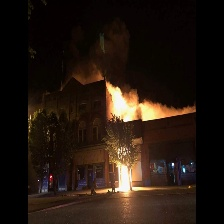fire: (119, 123, 132, 193)
smoke: (131, 85, 203, 118)
